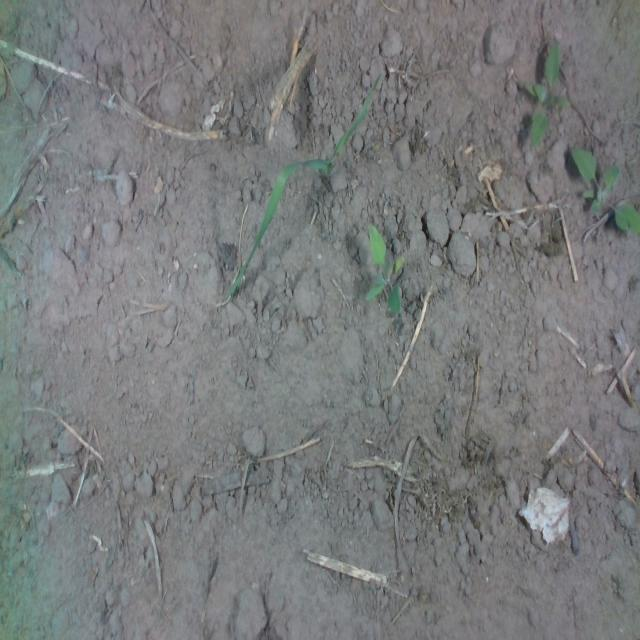weed: (524, 41, 570, 149), (363, 221, 404, 315)
